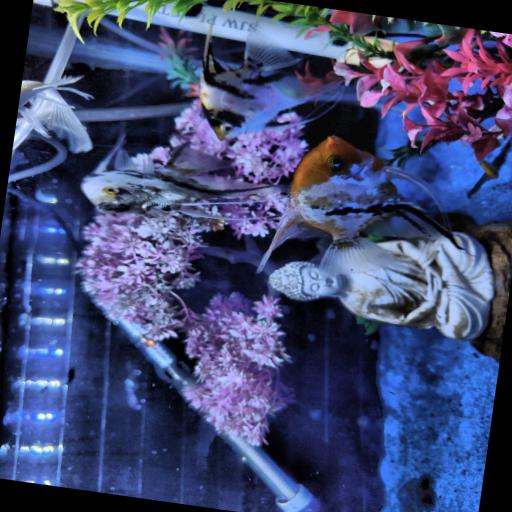Fish: (258, 136, 457, 276), (82, 135, 287, 219), (200, 33, 335, 139), (16, 76, 92, 151)
